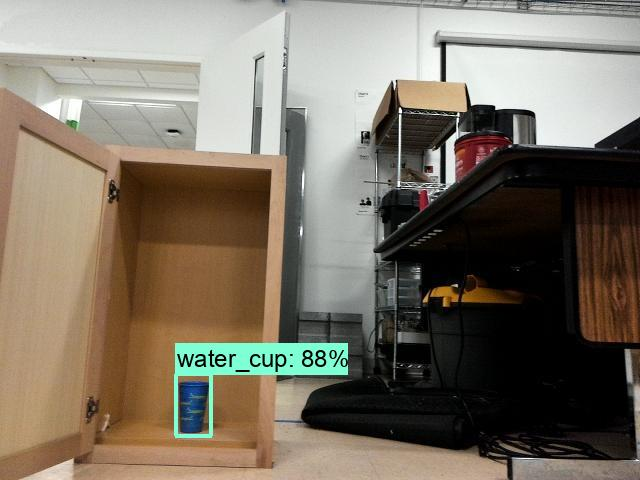water_cup: (170, 373, 213, 435)
